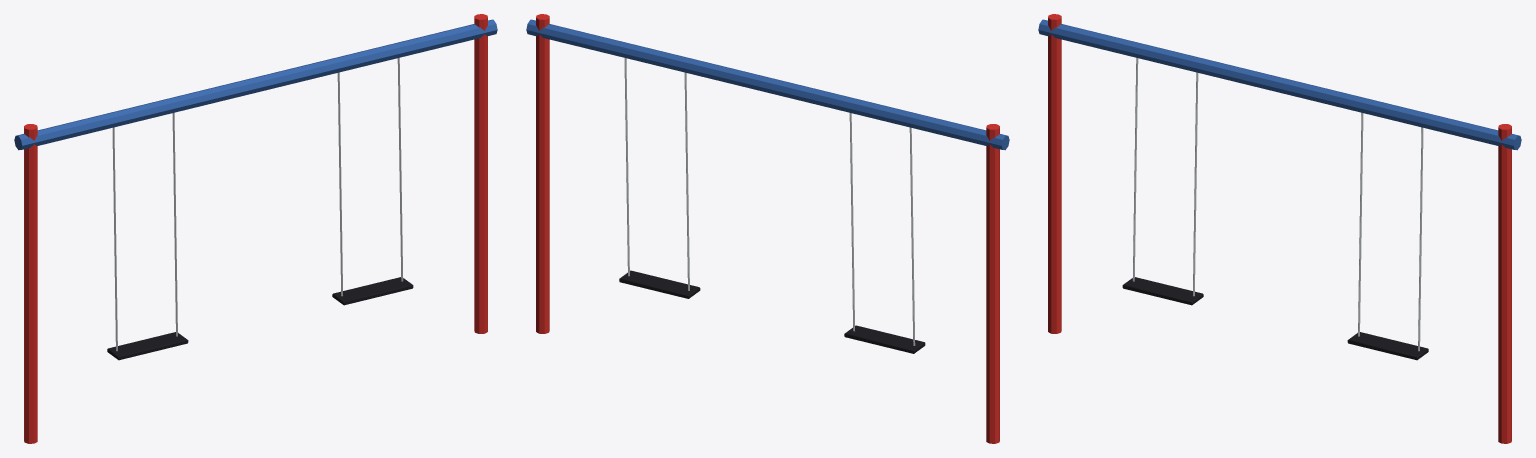
Rendered from swing_set.glb.
3 views of the same model, side by side, from view 1: azimuth 30°, elevation 25°; view 2: azimuth 150°, elevation 25°; view 3: azimuth 330°, elevation 25° (orthographic).
Visible parts, largest first — view 1: swing_set; view 2: swing_set; view 3: swing_set.
Part boxes in pixels (x1,y1,x2,y2): swing_set: (14,14,497,443); swing_set: (526,14,1009,443); swing_set: (1038,14,1521,443).
Bounding box in the file's own units: 3.8 × 2.4 × 0.195.
